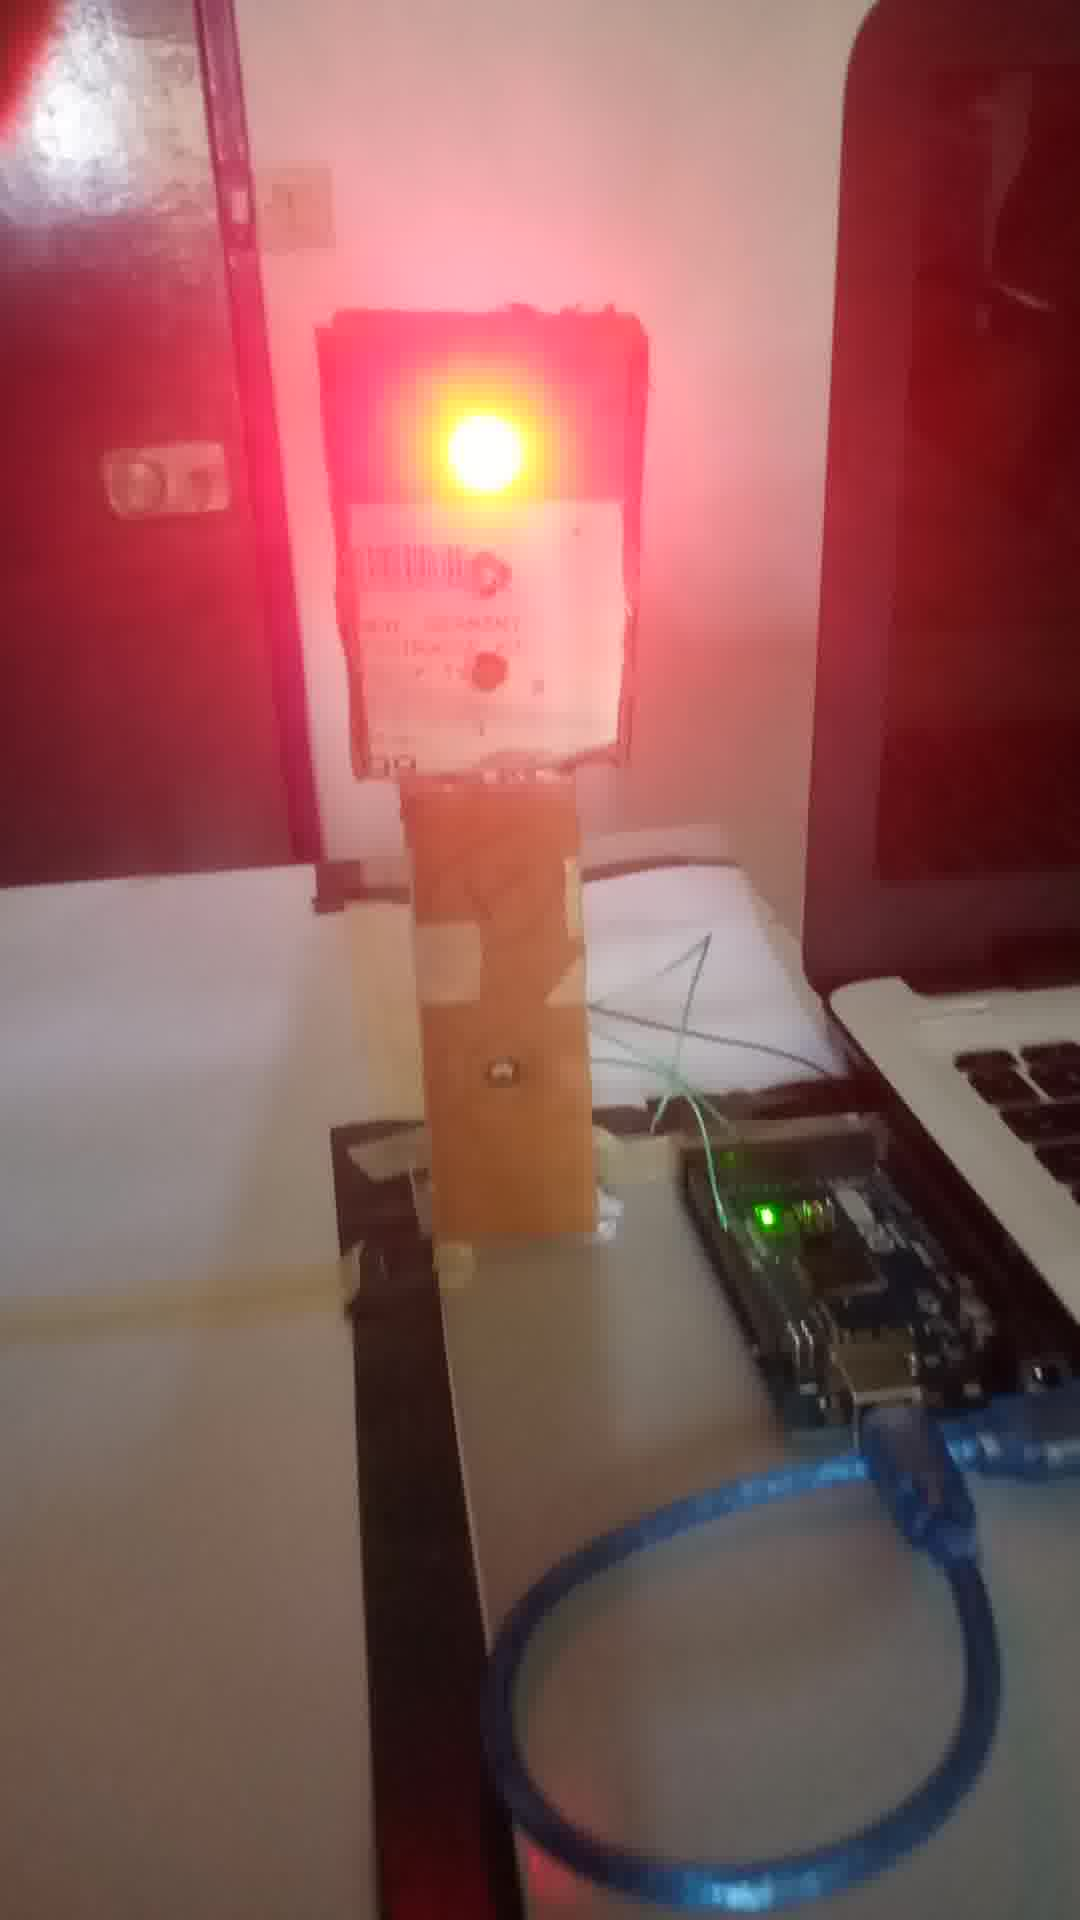red: (315, 266, 661, 777)
